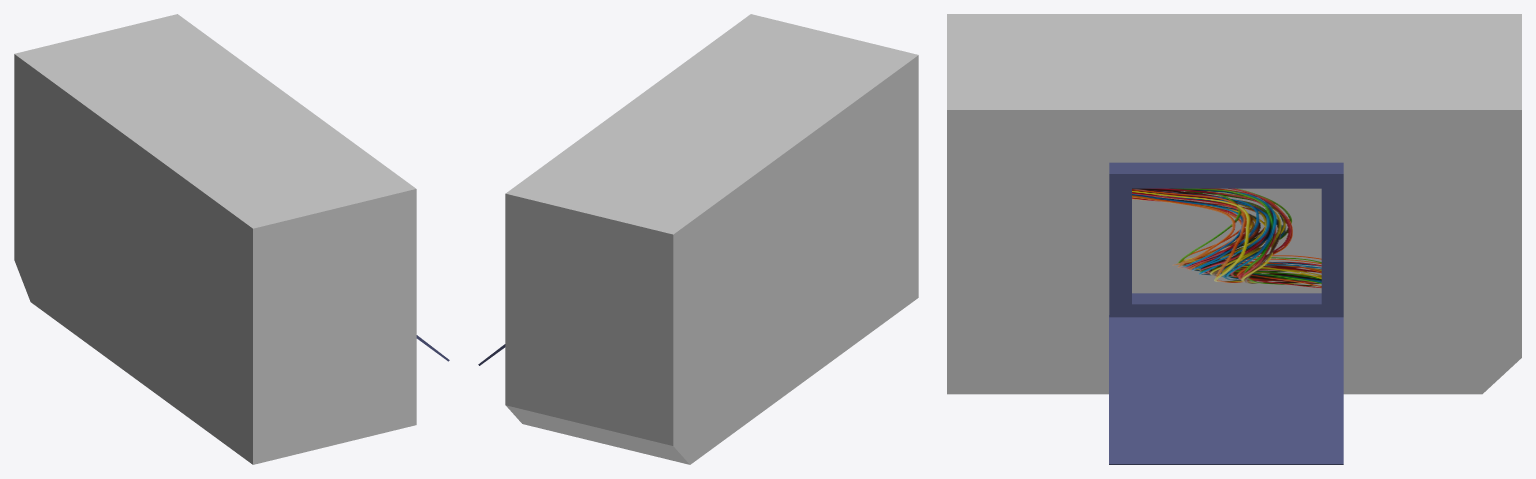
File: gen.fbx
3 views of the same model, side by side, from view 1: azimuth 30°, elevation 25°; view 2: azimuth 150°, elevation 25°; view 3: azimuth 270°, elevation 25° (orthographic). The views are drawn at different scales.
Parts seen in each view (by area): view 1: gerador2:Cube; view 2: gerador2:Cube; view 3: gerador2:Cube, pCube3.
Part boxes in pixels (x1,y1,x2,y2): gerador2:Cube: (14,14,416,464); gerador2:Cube: (505,14,918,464); gerador2:Cube: (947,14,1521,394); pCube3: (1109,162,1343,464).
Size of the model in its own units: 15.45 by 13.78 by 24.21.
